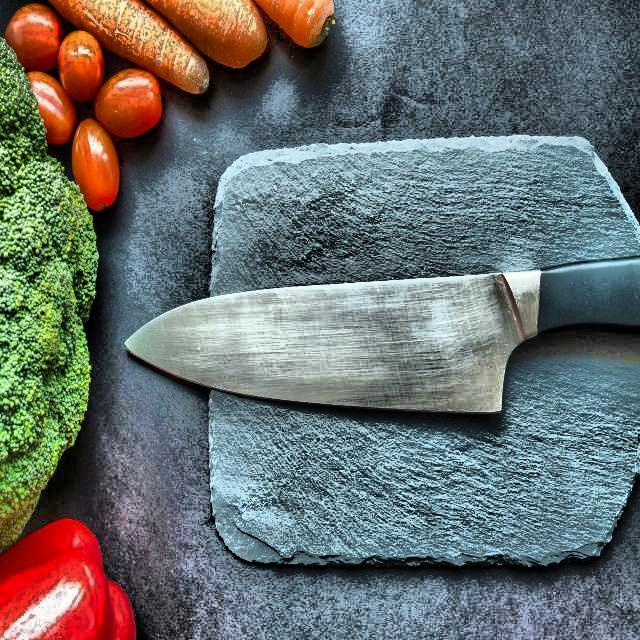knife: (121, 264, 640, 432)
